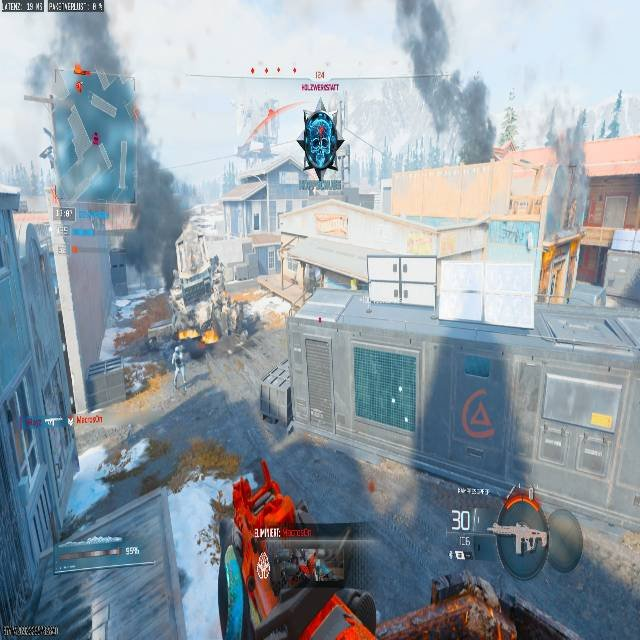head: (175, 346, 181, 352)
player: (297, 110, 341, 178), (172, 345, 184, 381)
